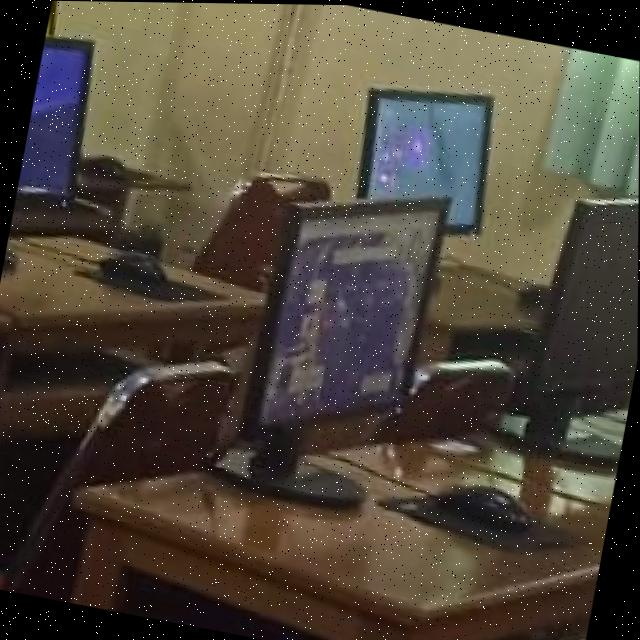offscreen: (539, 197, 639, 389)
onscreen: (243, 199, 447, 435), (357, 88, 493, 231), (15, 37, 92, 201)
